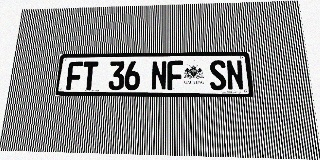3: (108, 61, 125, 90)
6: (124, 61, 140, 90)
F: (66, 61, 83, 90), (167, 60, 183, 90)
N: (226, 60, 244, 90), (151, 61, 167, 90)
S: (209, 60, 227, 90)
T: (81, 61, 98, 90)
